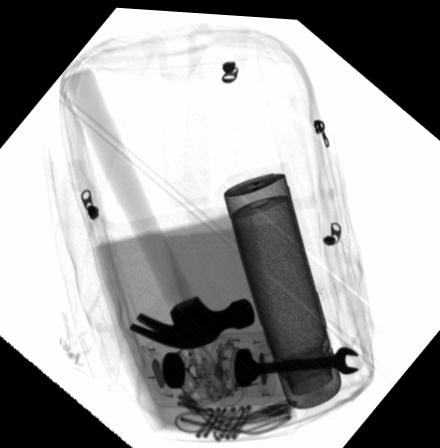Hammer: (62, 67, 254, 347)
Wrench: (235, 343, 361, 381)
